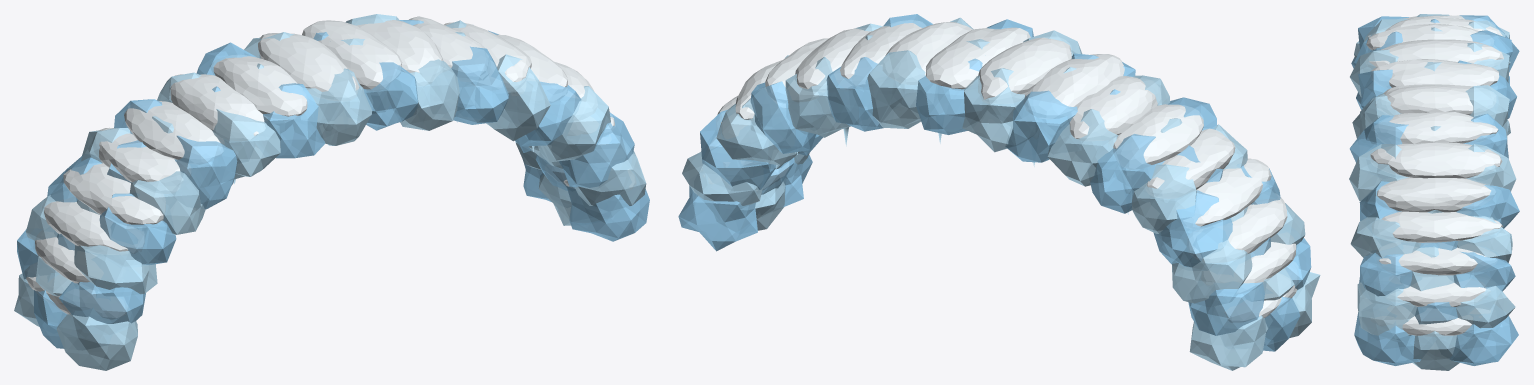
Rendered from gua-es.glb.
3 views of the same model, side by side, from view 1: azimuth 30°, elevation 25°; view 2: azimuth 150°, elevation 25°; view 3: azimuth 270°, elevation 25° (orthographic). The views are drawn at different scales.
Visible parts, largest first — view 1: Icosphere.004, Icosphere.051, Icosphere.036, Icosphere.068, Icosphere.028, Icosphere.043, Icosphere.012, Icosphere.060, Icosphere.020, Icosphere.059, Icosphere.035, Icosphere.044 (+34 smaller); view 2: Icosphere.030, Icosphere.062, Icosphere.014, Icosphere.051, Icosphere.043, Icosphere.054, Icosphere.006, Icosphere.038, Icosphere.070, Icosphere.022, Icosphere.046, Icosphere.039 (+33 smaller); view 3: Icosphere.023, Icosphere.019, Icosphere.027, Icosphere.004, Icosphere.035, Icosphere.015, Icosphere.011, Icosphere.031, Icosphere.039, Icosphere.001, Icosphere.002, Icosphere.006 (+31 smaller).
Part boxes in pixels (x1=…): Icosphere.004: x1=569, y1=134, x2=646, y2=213; Icosphere.051: x1=124, y1=100, x2=223, y2=164; Icosphere.036: x1=293, y1=68, x2=372, y2=145; Icosphere.068: x1=56, y1=291, x2=137, y2=370; Icosphere.028: x1=387, y1=59, x2=462, y2=130; Icosphere.043: x1=210, y1=55, x2=308, y2=119; Icosphere.012: x1=536, y1=86, x2=610, y2=162; Icosphere.060: x1=74, y1=223, x2=157, y2=295; Icosphere.020: x1=475, y1=54, x2=550, y2=141; Icosphere.059: x1=63, y1=163, x2=165, y2=226; Icosphere.035: x1=302, y1=20, x2=402, y2=91; Icosphere.044: x1=211, y1=109, x2=280, y2=182; Icosphere.030: x1=863, y1=50, x2=942, y2=128; Icosphere.062: x1=1172, y1=227, x2=1252, y2=306; Icosphere.014: x1=716, y1=89, x2=796, y2=165; Icosphere.051: x1=1112, y1=104, x2=1203, y2=169; Icosphere.043: x1=1024, y1=54, x2=1124, y2=118; Icosphere.054: x1=1132, y1=164, x2=1196, y2=239; Icosphere.006: x1=682, y1=145, x2=762, y2=220; Icosphere.038: x1=962, y1=68, x2=1038, y2=152; Icosphere.070: x1=1189, y1=294, x2=1272, y2=370; Icosphere.022: x1=785, y1=57, x2=858, y2=137; Icosphere.046: x1=1047, y1=109, x2=1118, y2=186; Icosphere.039: x1=978, y1=37, x2=1071, y2=103; Icosphere.023: x1=1370, y1=142, x2=1502, y2=178; Icosphere.019: x1=1375, y1=177, x2=1495, y2=212; Icosphere.027: x1=1374, y1=112, x2=1498, y2=144; Icosphere.004: x1=1357, y1=271, x2=1426, y2=341; Icosphere.035: x1=1371, y1=59, x2=1499, y2=88; Icosphere.015: x1=1373, y1=211, x2=1503, y2=242; Icosphere.011: x1=1376, y1=243, x2=1496, y2=276; Icosphere.031: x1=1376, y1=84, x2=1495, y2=115; Icosphere.039: x1=1368, y1=39, x2=1503, y2=67; Icosphere.001: x1=1398, y1=331, x2=1478, y2=370; Icosphere.002: x1=1450, y1=315, x2=1518, y2=365; Icosphere.006: x1=1439, y1=273, x2=1515, y2=336.
Bounding box in the file's own units: 73.18 × 29.6 × 21.75.
